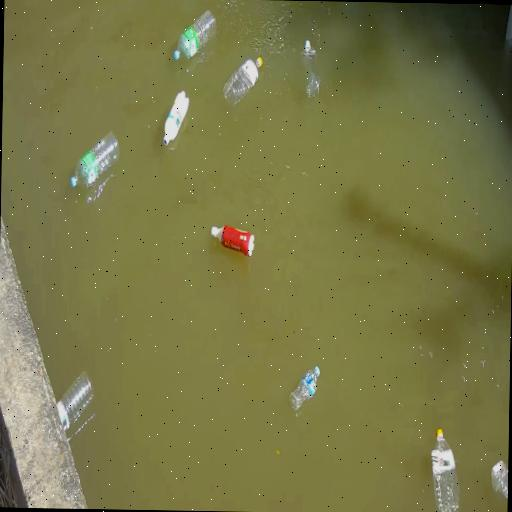plastic: (70, 132, 118, 187), (430, 429, 458, 511), (56, 372, 92, 431), (173, 10, 215, 60), (223, 57, 261, 106), (289, 366, 319, 415), (162, 92, 188, 145), (210, 225, 253, 256), (300, 40, 319, 97), (490, 461, 507, 498)
